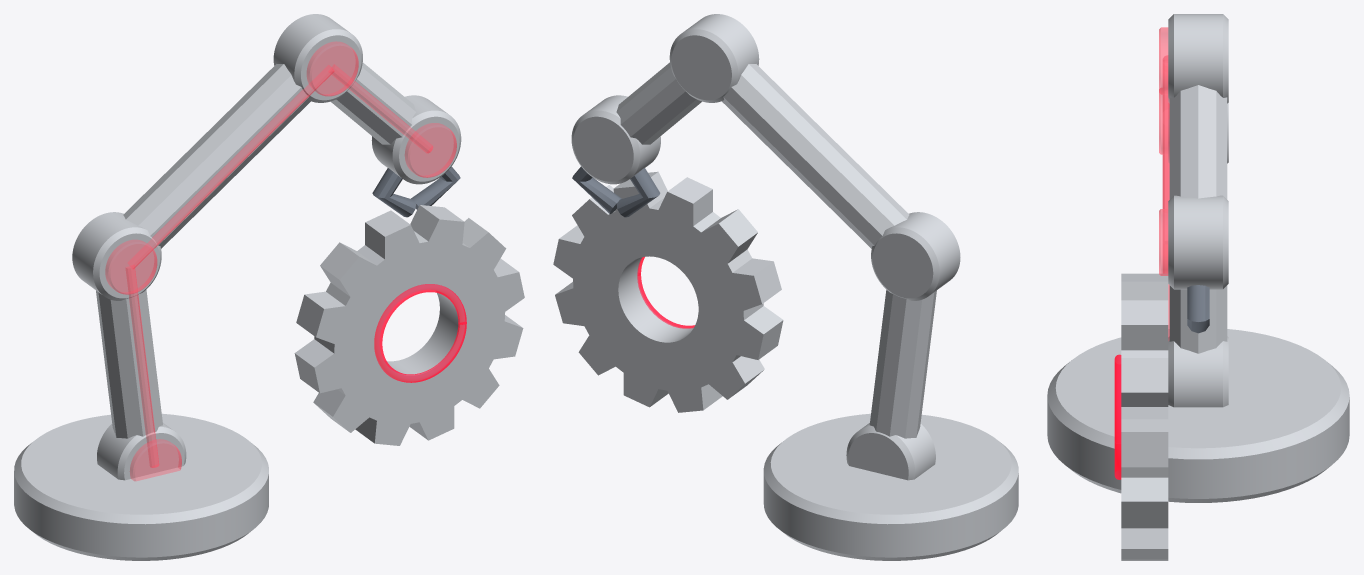
The model's file is 23-automation.glb.
3 views of the same model, side by side, from view 1: azimuth 30°, elevation 25°; view 2: azimuth 150°, elevation 25°; view 3: azimuth 270°, elevation 25° (orthographic). The views are drawn at different scales.
Parts seen in each view (by area): view 1: BC satin silver metal, BC ruby optical glass, BC neon red glass edge, BC dark brushed metal; view 2: BC satin silver metal, BC dark brushed metal; view 3: BC satin silver metal, BC ruby optical glass, BC dark brushed metal, BC neon red glass edge.
Boxes of the visible parts, x1,y1,x2,y2 form: BC satin silver metal: [14, 14, 524, 560]; BC ruby optical glass: [105, 41, 456, 480]; BC neon red glass edge: [374, 284, 466, 382]; BC dark brushed metal: [372, 166, 460, 217]; BC satin silver metal: [553, 14, 1018, 560]; BC dark brushed metal: [572, 166, 660, 217]; BC satin silver metal: [1047, 14, 1349, 560]; BC ruby optical glass: [1159, 27, 1169, 340]; BC dark brushed metal: [1187, 285, 1209, 333]; BC neon red glass edge: [1114, 354, 1121, 479].
Bounding box in the file's own units: 1.88 × 1.73 × 0.9.
